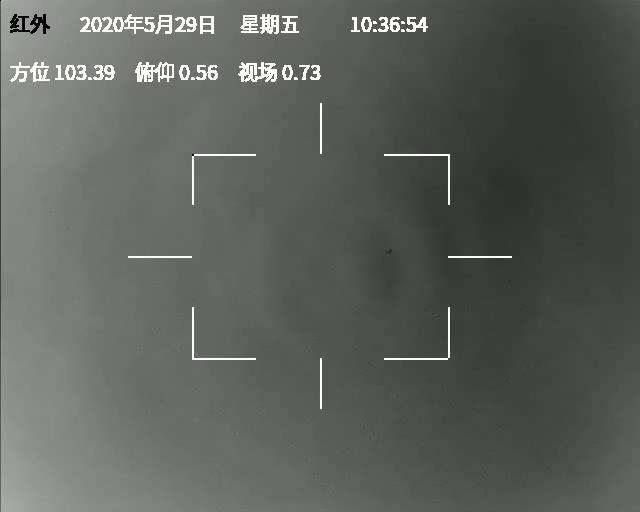uav: (385, 247, 394, 255)
